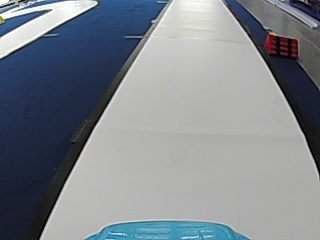bomb: (263, 33, 299, 57)
